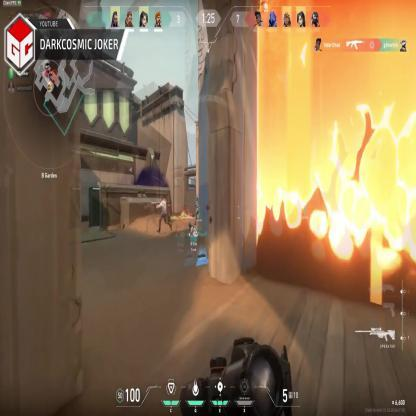enemy: (156, 192, 171, 232), (194, 194, 202, 223)
enemy_head: (161, 195, 165, 202), (196, 197, 198, 202)
